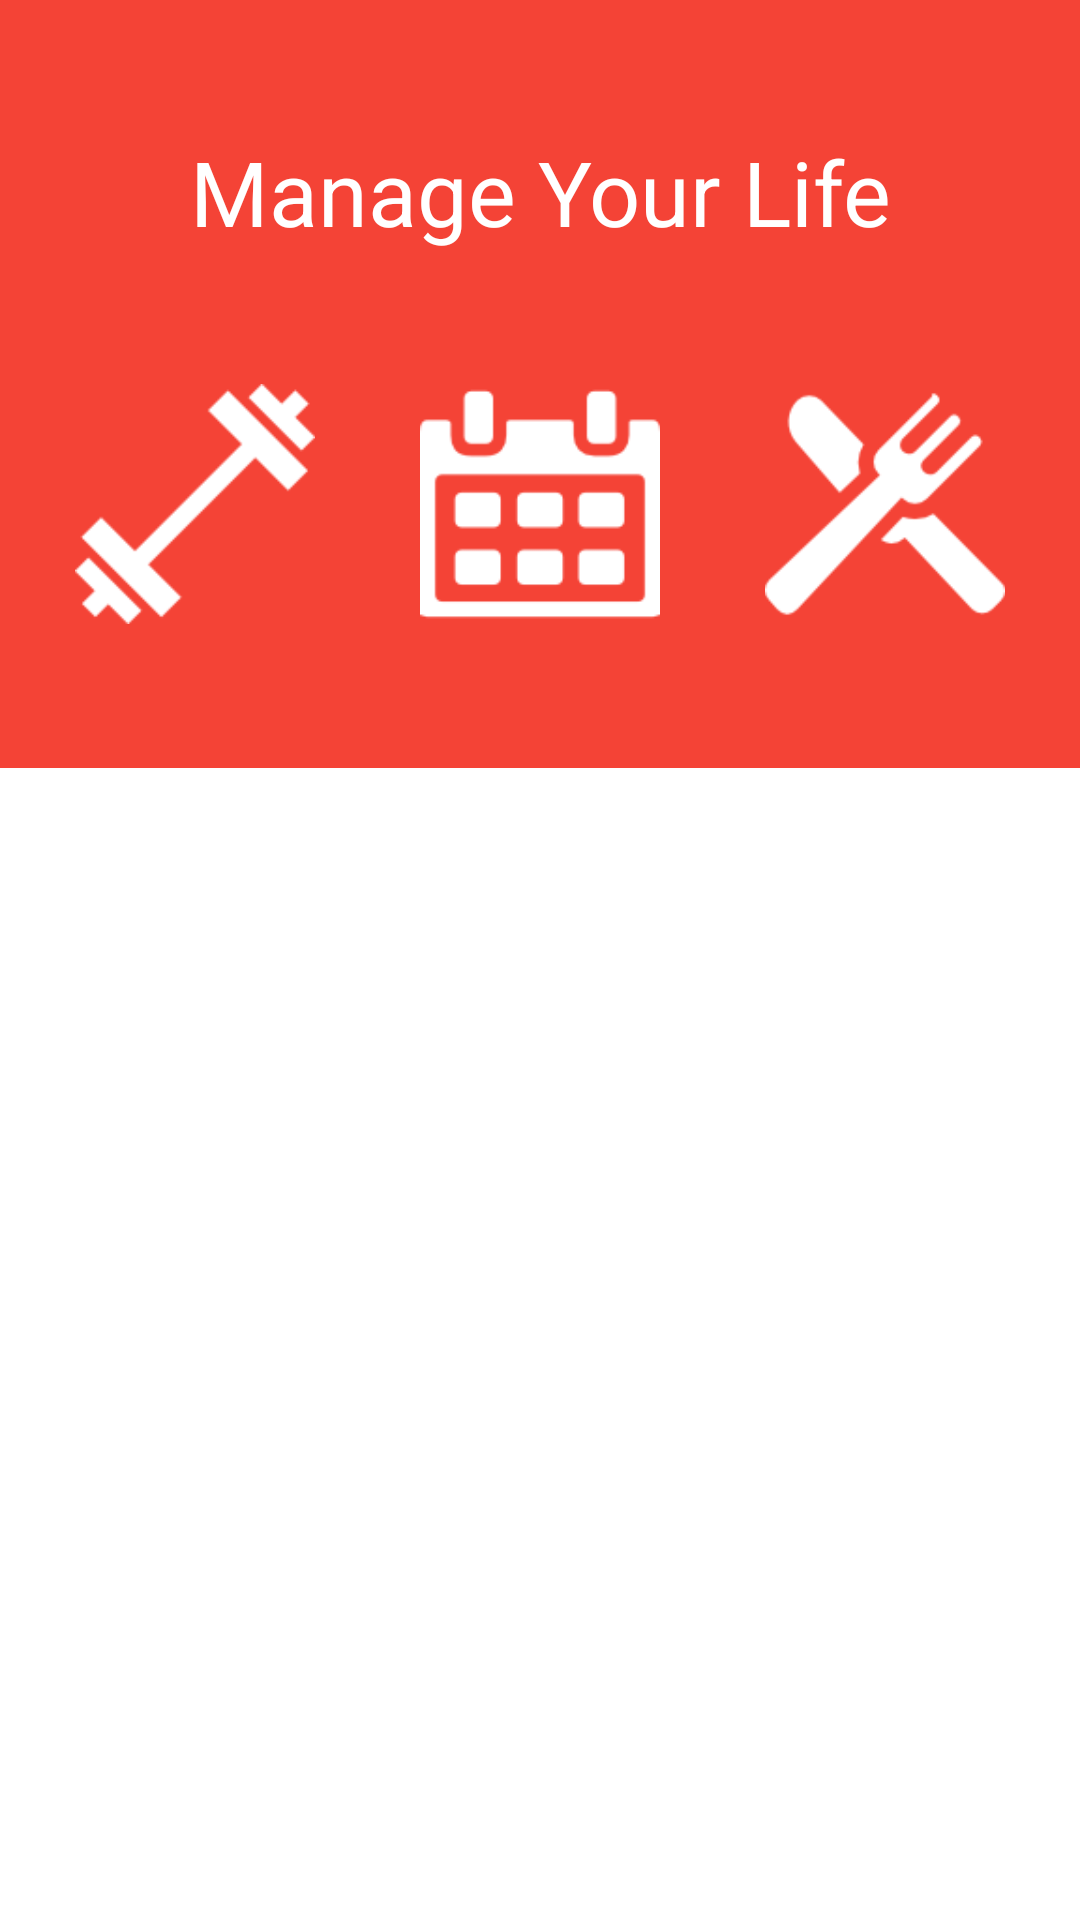

Named icons in this screenshot (1080 × 1920) and their centers, point (x, y):
barbell: point (195, 504)
Button to Schedule: point (540, 504)
cutlery: point (885, 504)
